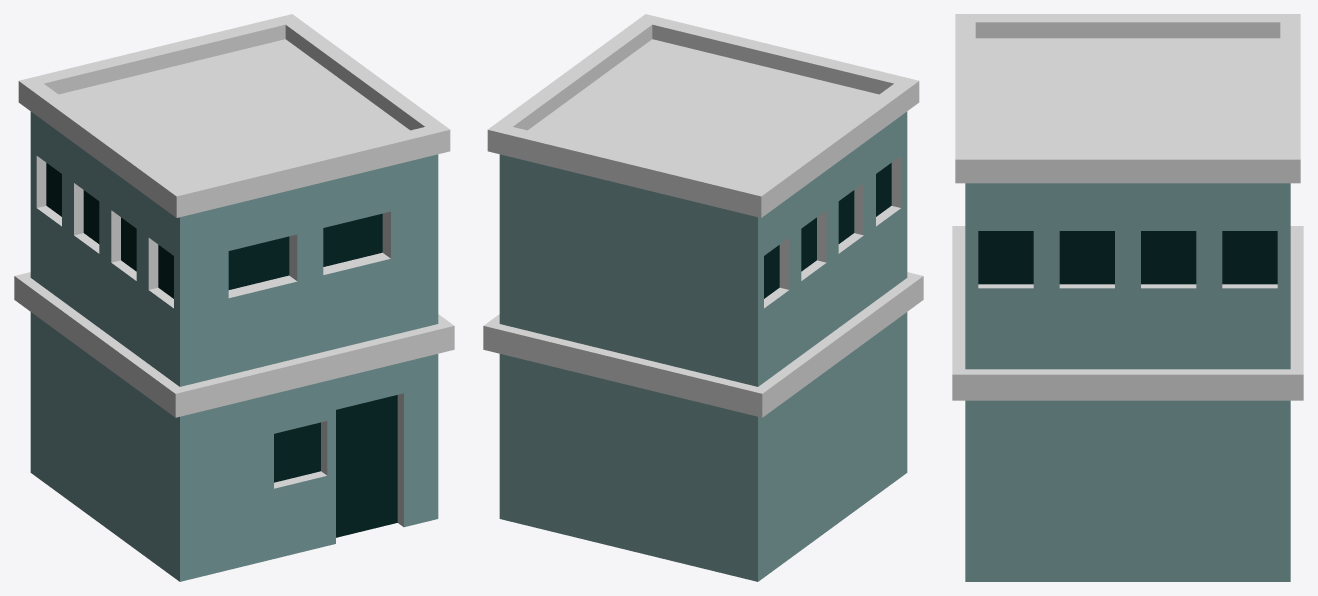
File: 079 House.fbx
The picture shows the model from 3 angles, left to right: view 1: azimuth 30°, elevation 25°; view 2: azimuth 150°, elevation 25°; view 3: azimuth 270°, elevation 25°; orthographic projection. The views are drawn at different scales.
Visible parts, largest first — view 1: Lowpoly_Christmas_Pack_079:pCube1; view 2: Lowpoly_Christmas_Pack_079:pCube1; view 3: Lowpoly_Christmas_Pack_079:pCube1.
Boxes of the visible parts, bbox=[...] form: Lowpoly_Christmas_Pack_079:pCube1: bbox=[14, 14, 454, 581]; Lowpoly_Christmas_Pack_079:pCube1: bbox=[483, 14, 923, 581]; Lowpoly_Christmas_Pack_079:pCube1: bbox=[952, 14, 1303, 581].
Bounding box in the file's own units: 1.08 × 1.45 × 1.08.
